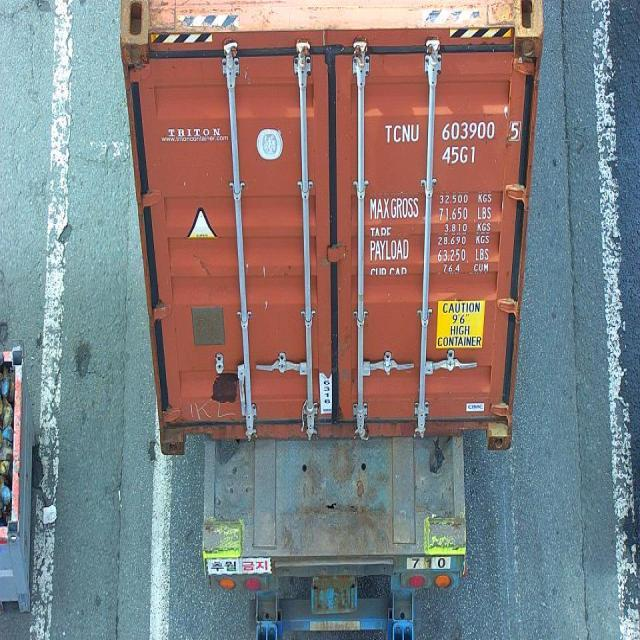ISO: (441, 146, 479, 166)
container_number: (386, 119, 524, 142)
